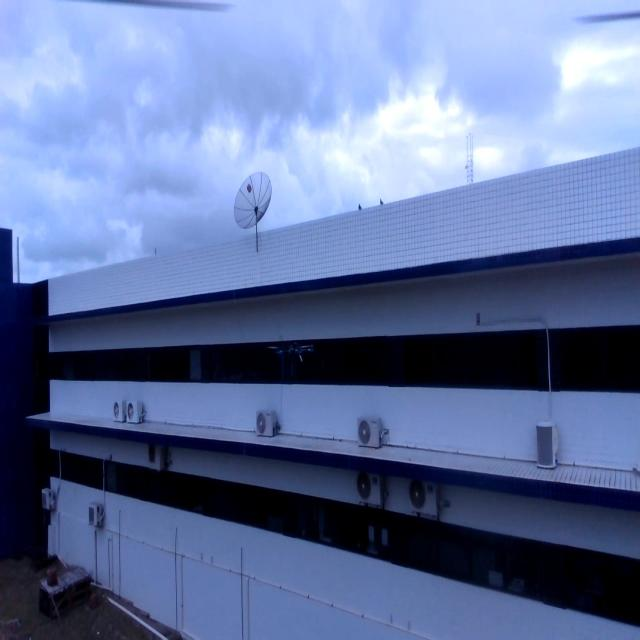-uav-: (262, 330, 318, 386)
